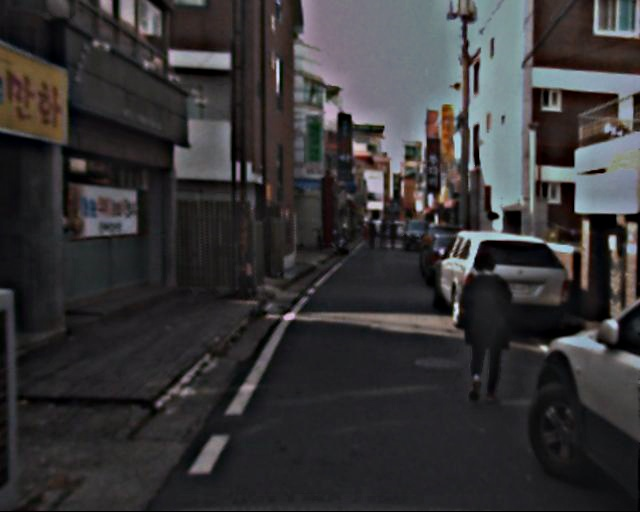person: (453, 252, 516, 406), (369, 218, 402, 256)
